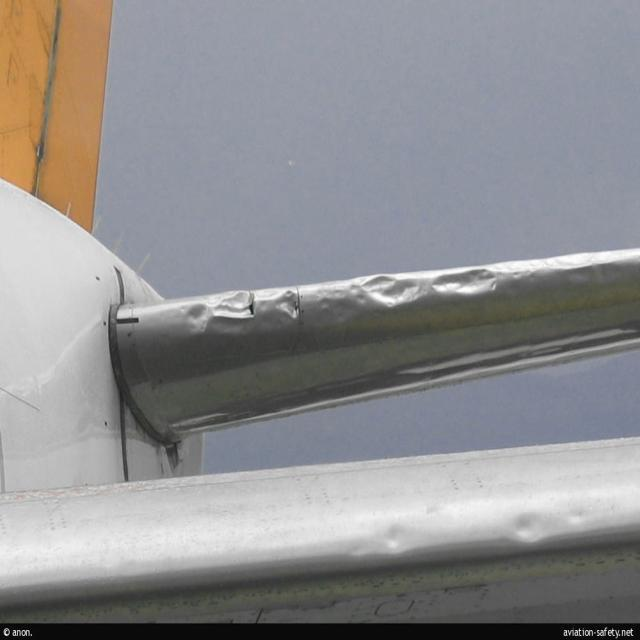dent: (186, 289, 255, 339), (362, 271, 424, 312), (433, 266, 502, 299), (510, 515, 547, 553), (278, 281, 304, 329), (380, 529, 411, 558)
